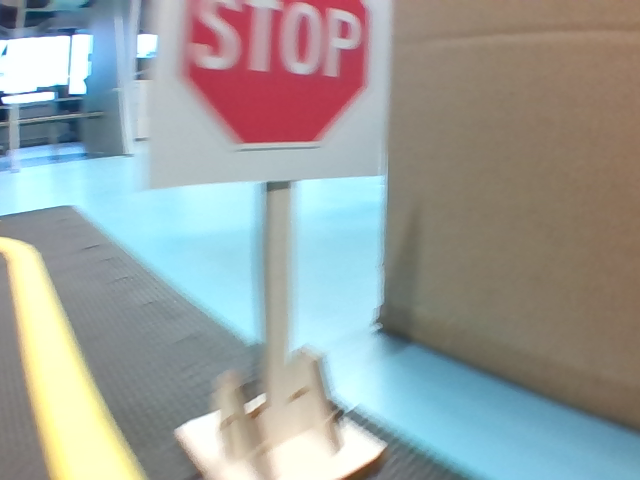no30: (134, 107, 162, 143)
